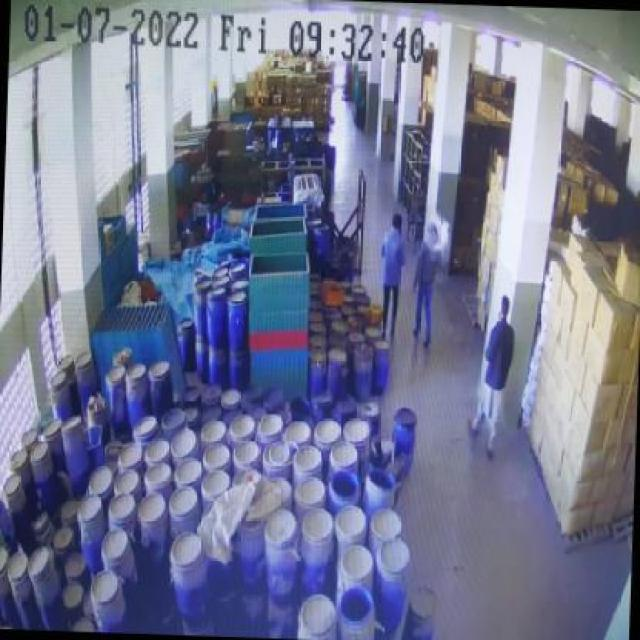fire: (426, 209, 452, 263)
